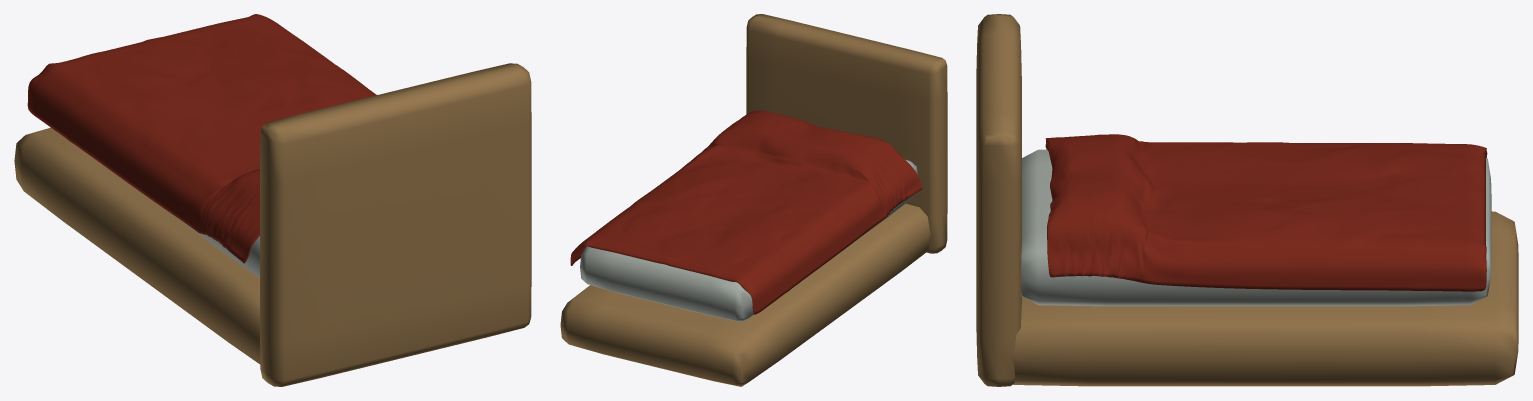
File: Bed.fbx
The picture shows the model from 3 angles, left to right: view 1: azimuth 30°, elevation 25°; view 2: azimuth 150°, elevation 25°; view 3: azimuth 270°, elevation 25°; orthographic projection. The views are drawn at different scales.
Parts seen in each view (by area): view 1: Cube, Plane.002, Cube.006, Cube.021; view 2: Plane.002, Cube.006, Cube, Cube.021; view 3: Plane.002, Cube.006, Cube, Cube.021.
Part boxes in pixels (bbox=[...]): Cube: bbox=[260, 63, 531, 386]; Plane.002: bbox=[27, 14, 376, 263]; Cube.006: bbox=[14, 127, 260, 364]; Cube.021: bbox=[168, 211, 259, 277]; Plane.002: bbox=[570, 110, 922, 314]; Cube.006: bbox=[560, 203, 930, 386]; Cube: bbox=[746, 14, 947, 253]; Cube.021: bbox=[580, 159, 917, 322]; Plane.002: bbox=[1045, 134, 1487, 291]; Cube.006: bbox=[1011, 211, 1518, 386]; Cube: bbox=[976, 14, 1021, 386]; Cube.021: bbox=[1021, 149, 1491, 306].
Size of the model in its own units: 136 by 132 by 250.
Materials: 3 (2 with a texture image).
